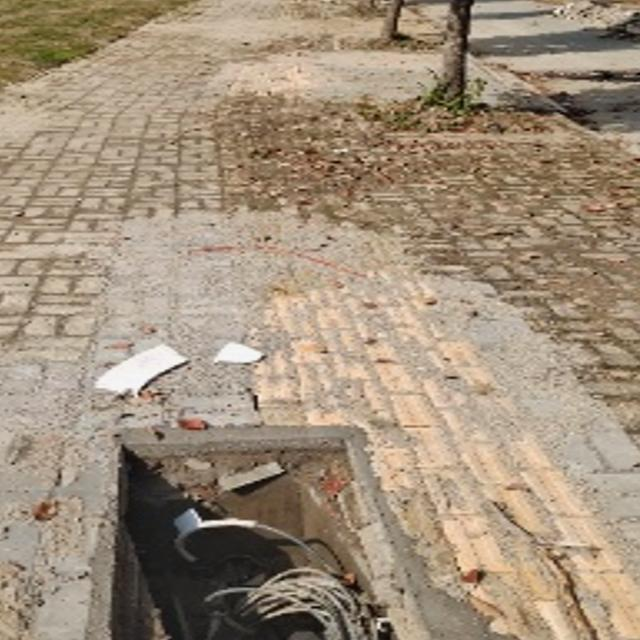lose: (85, 397, 434, 640)
